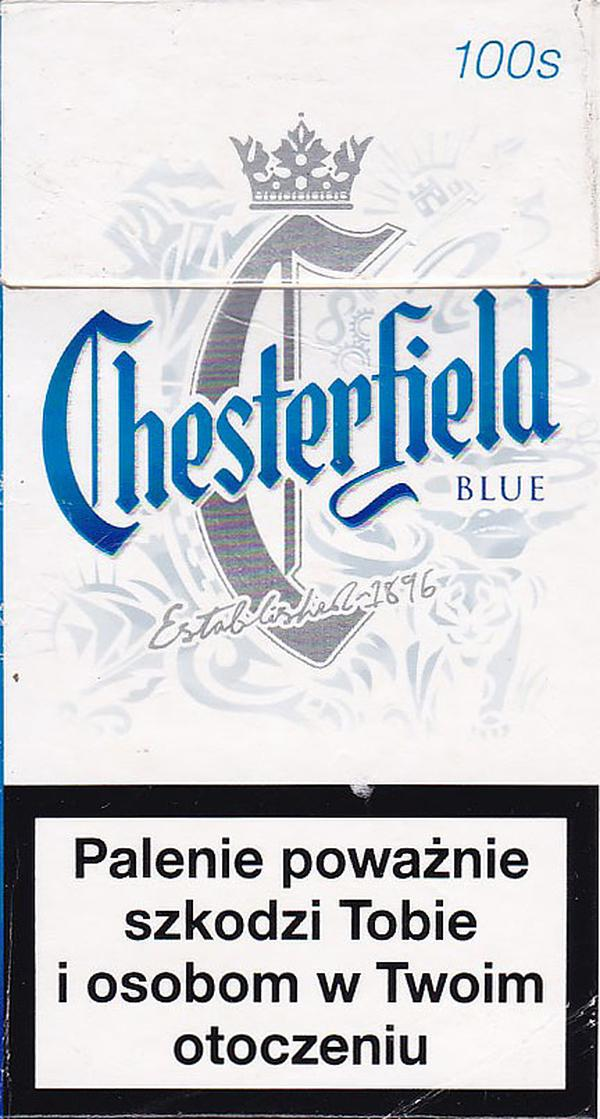chesterfield_blue: (1, 1, 599, 1119)
